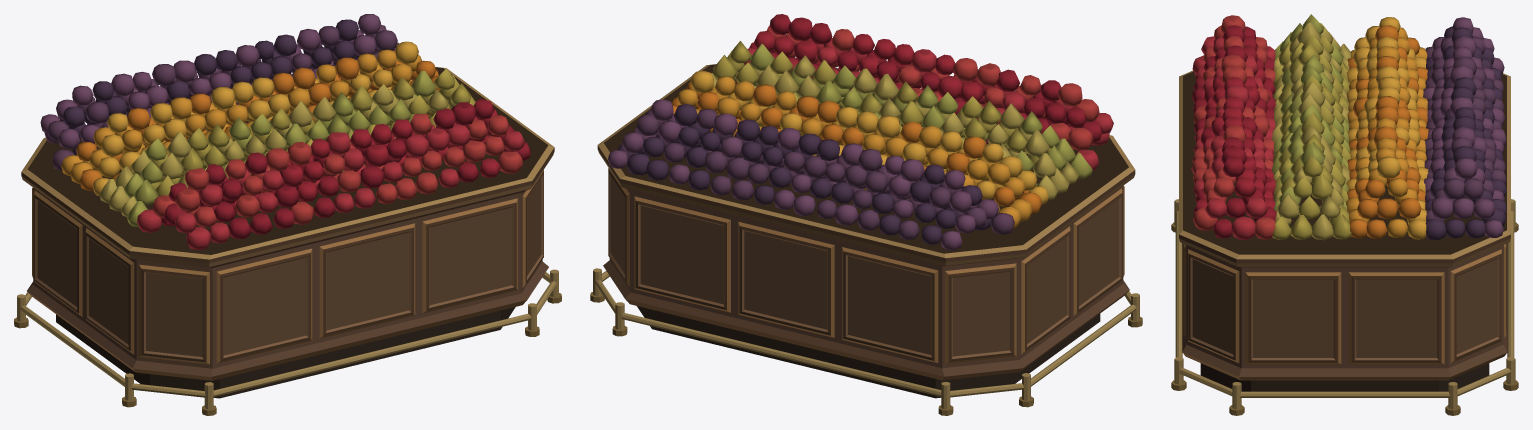
Rendered from fruit-island.glb.
3 views of the same model, side by side, from view 1: azimuth 30°, elevation 25°; view 2: azimuth 150°, elevation 25°; view 3: azimuth 270°, elevation 25° (orthographic).
Visible parts, largest first — view 1: Surface; view 2: Surface; view 3: Surface.
Boxes of the visible parts, left/top/right/bottom form: Surface: left=14, top=14, right=561, bottom=415; Surface: left=590, top=14, right=1142, bottom=415; Surface: left=1171, top=14, right=1518, bottom=415.
Size of the model in its own units: 2.06 by 1.01 by 1.41.
